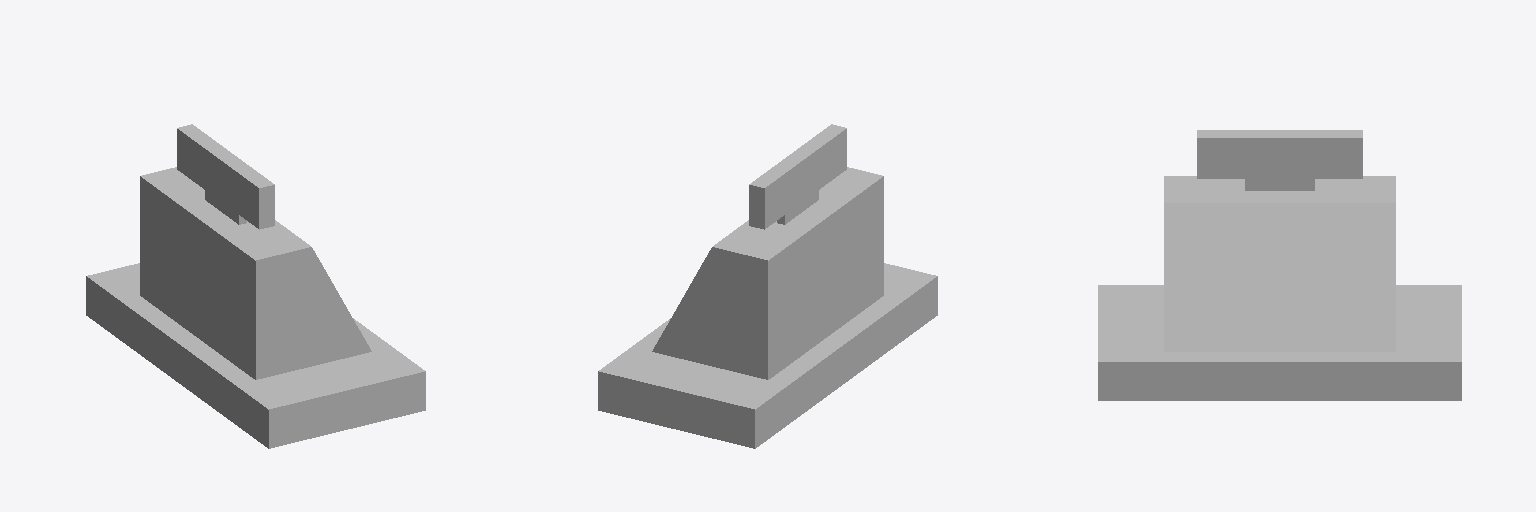
Rendered from table.2.obj.
3 renders of one model, left to right at view 1: azimuth 30°, elevation 25°; view 2: azimuth 150°, elevation 25°; view 3: azimuth 270°, elevation 25°, orthographic.
Parts seen in each view (by area): view 1: Cube.383_Cube.387; view 2: Cube.383_Cube.387; view 3: Cube.383_Cube.387.
Part boxes in pixels (x1,y1,x2,y2): Cube.383_Cube.387: (86, 124, 425, 448); Cube.383_Cube.387: (598, 124, 937, 448); Cube.383_Cube.387: (1098, 130, 1461, 400).
Bounding box in the file's own units: 0.3184 × 0.4143 × 0.6403.